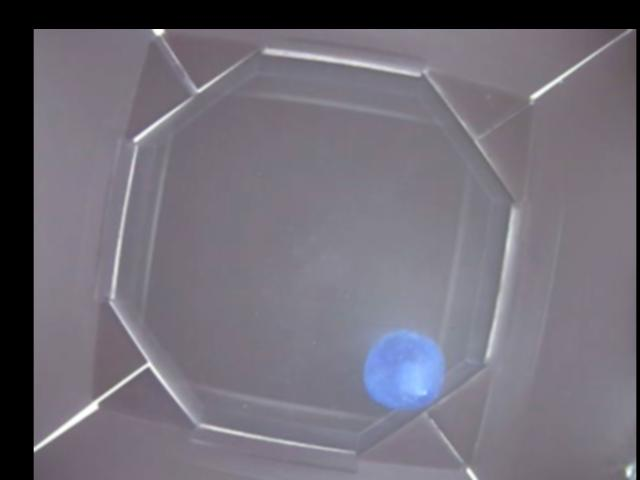Potato: (365, 330, 437, 409)
